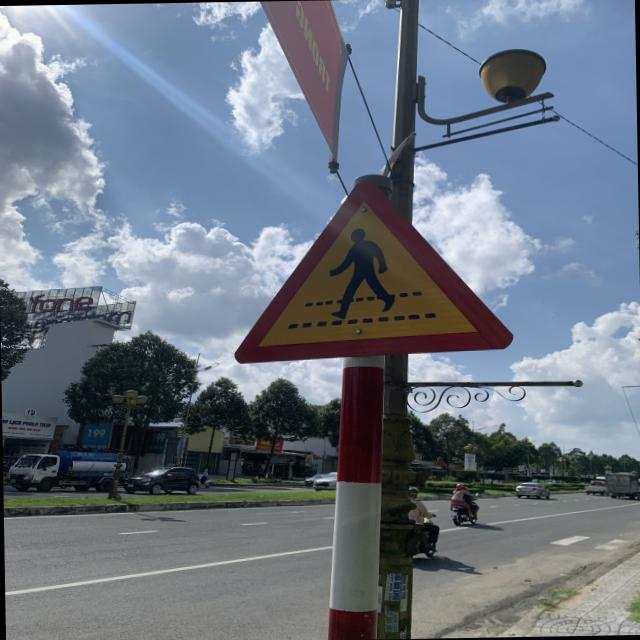Duong_Nguoi_Di_Bo_Sang_Ngang: (228, 170, 510, 364)
